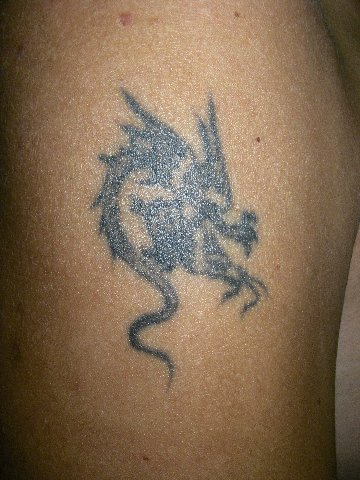tatu6_drakon: (73, 69, 287, 403)
